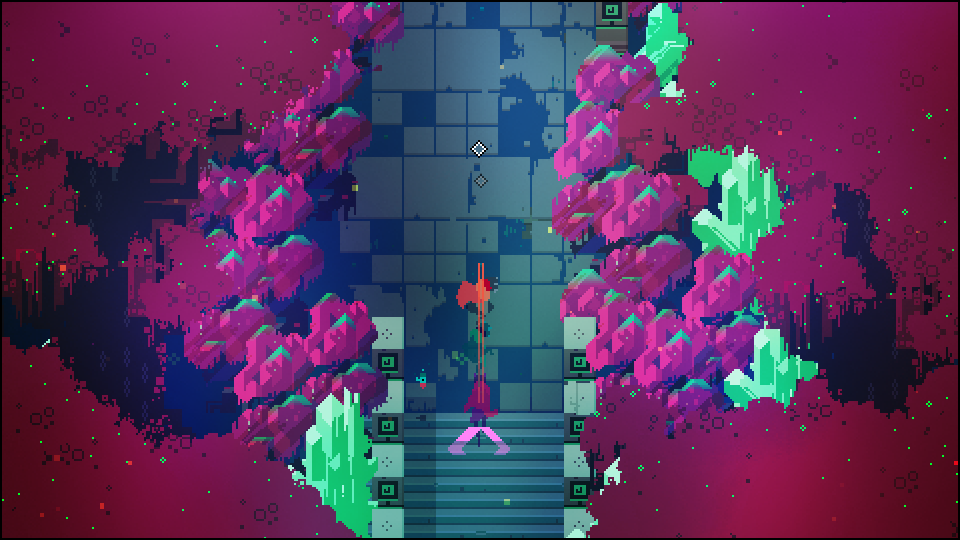player: (450, 273, 502, 329)
